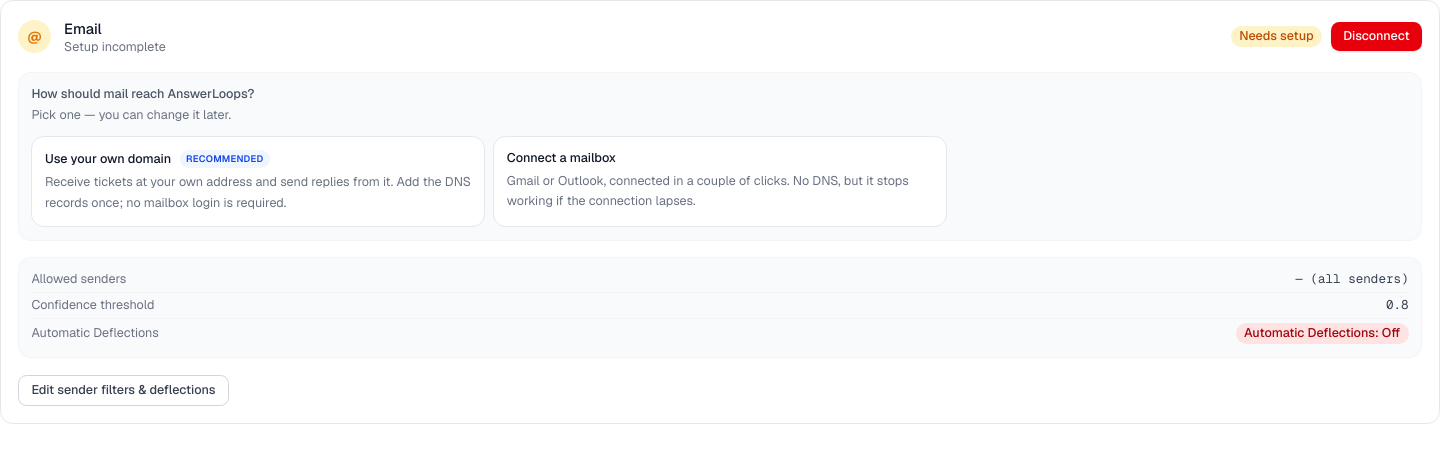
Scenario: EmailDeliverySection: the delivery-method chooser gates setup UI › returns to the chooser and tears down the abandoned method when "Use a different method" is clicked
Click the button "Connect a mailbox" at (720,182), box 493,136 -> 947,227
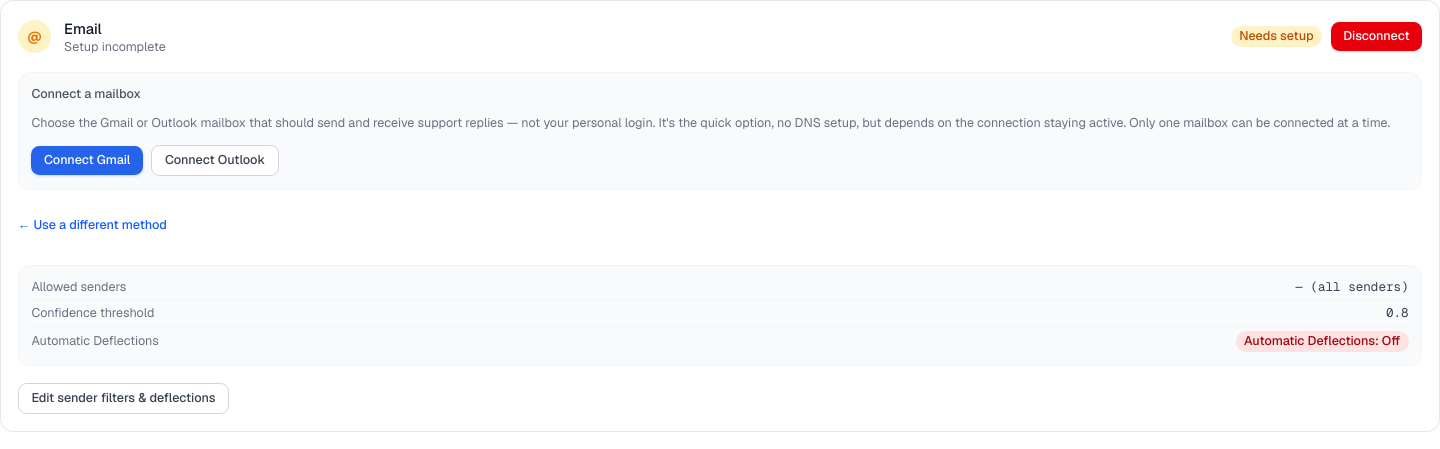
Expected: the button "Connect Gmail" is shown, 31,146 -> 143,175
Click the button "← Use a different method" at (92,225), box 9,202 -> 175,248
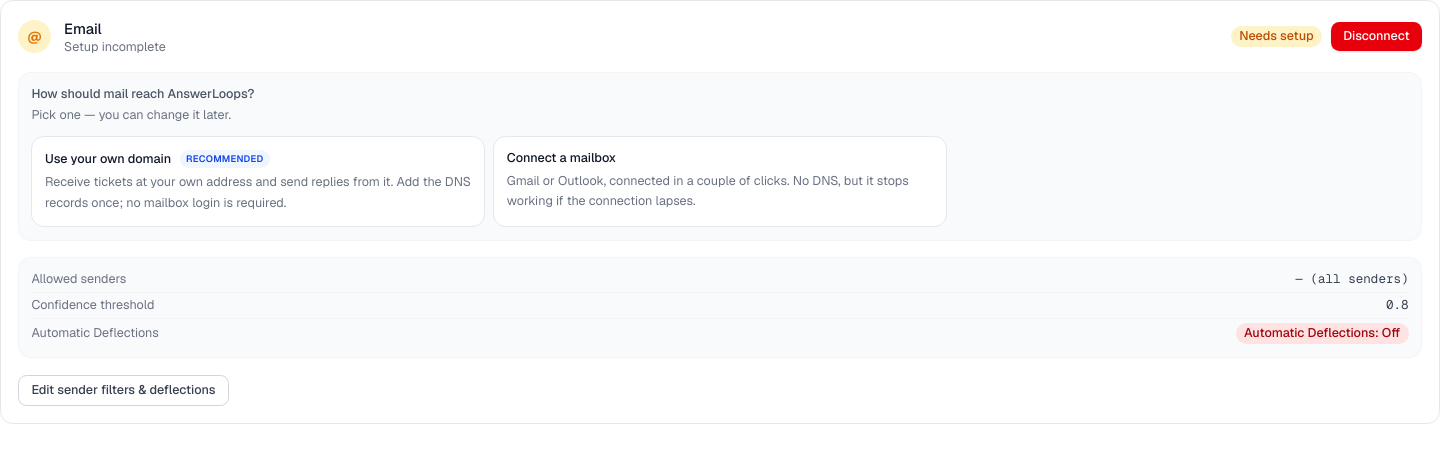
Expected: the button "Use your own domain" is shown, 31,136 -> 485,227
Expected: the button "Connect Gmail" is gone
Expected: the button "Connect Outlook" is gone
